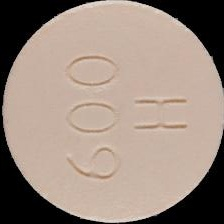52536-251: (0, 0, 224, 224)
